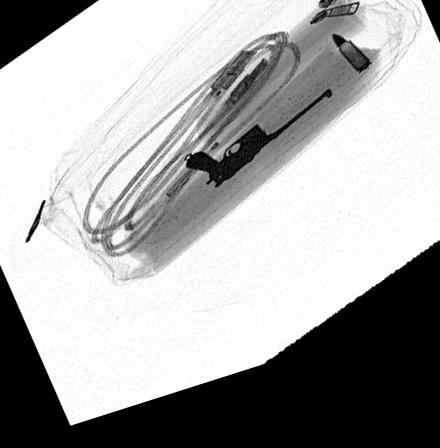Bullet: (331, 53, 371, 94)
Gun: (184, 107, 333, 199)
